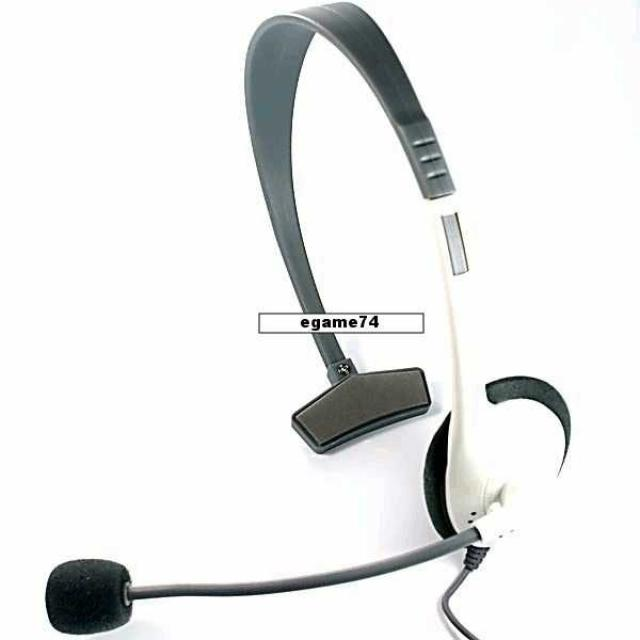microphone: (44, 556, 131, 634)
